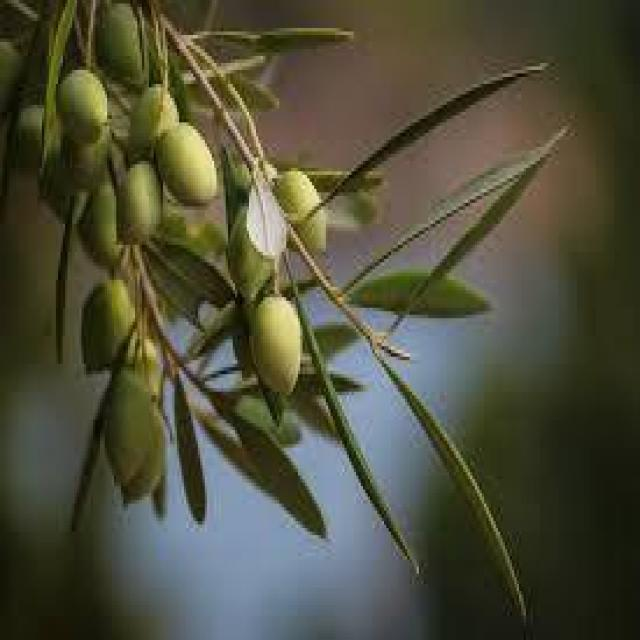Healthy: (253, 289, 304, 400), (156, 122, 216, 203), (58, 66, 109, 148), (116, 158, 163, 245)
